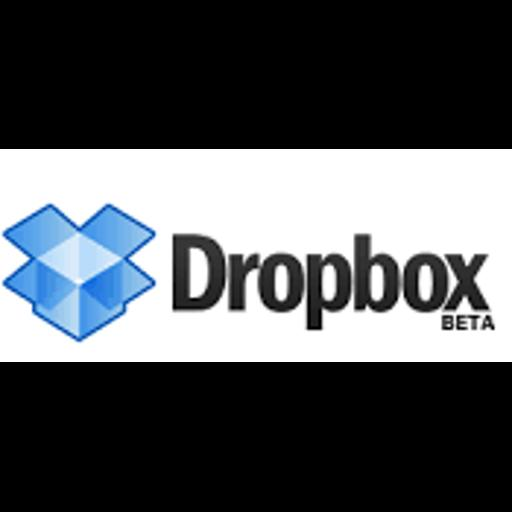Dropbox: (0, 149, 512, 362)
